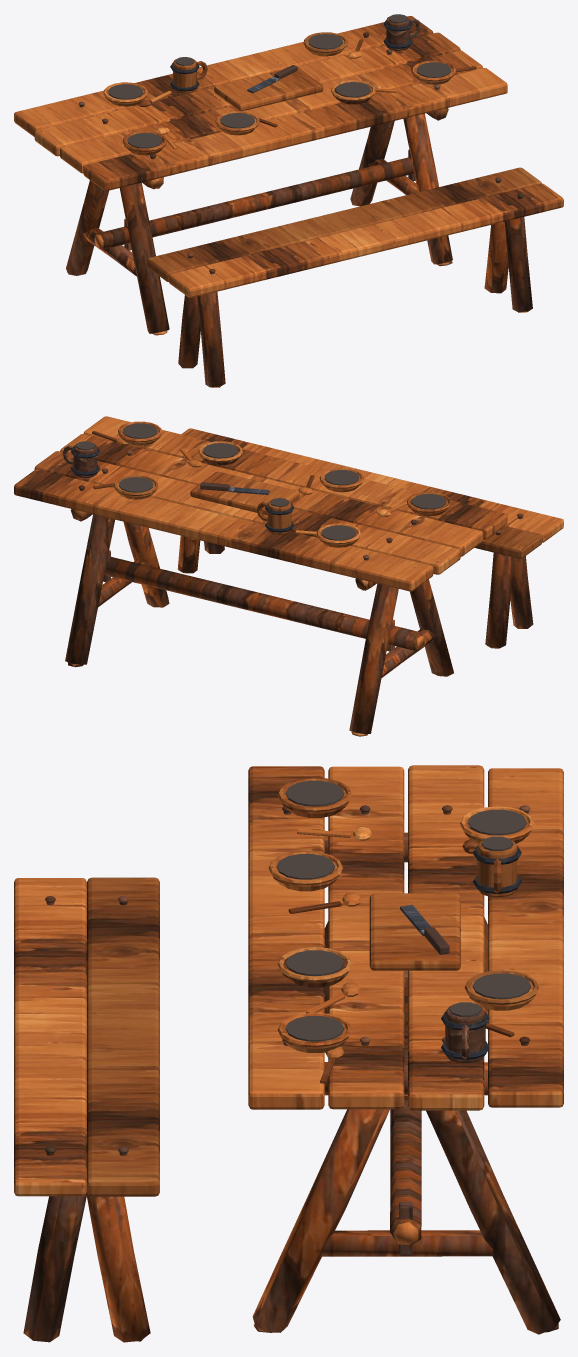
The model's file is mg_mess_trestle.glb.
The picture shows the model from 3 angles, top to bottom: view 1: azimuth 30°, elevation 25°; view 2: azimuth 150°, elevation 25°; view 3: azimuth 270°, elevation 25°; orthographic projection. The views are drawn at different scales.
Visible parts, largest first — view 1: model; view 2: model; view 3: model.
Part boxes in pixels (x1,y1,x2,y2): model: [14, 14, 563, 387]; model: [14, 416, 563, 736]; model: [14, 765, 563, 1342].
Bounding box in the file's own units: 1.71 × 0.7965 × 1.21.
Materials: 16 (15 with a texture image).
